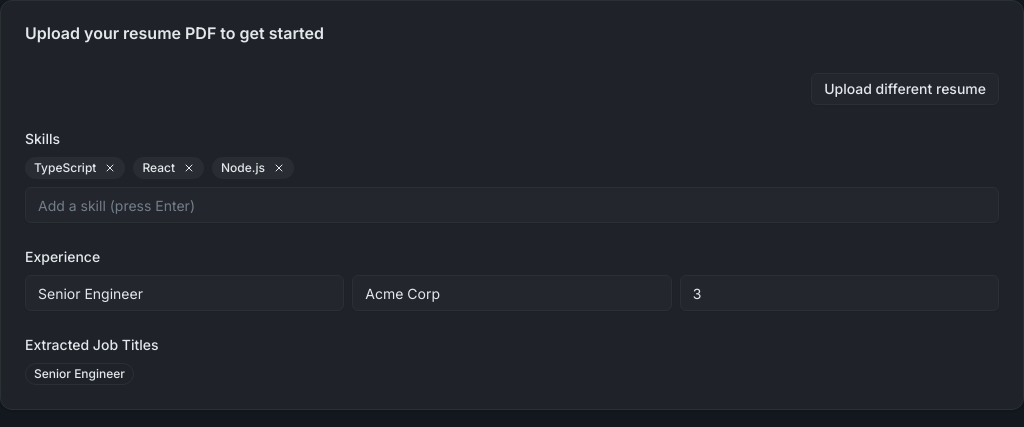
Test case: ResumeStep › parsed data display › [P1] should add skill when typing and pressing Enter
Type "GraphQL" into the field with test id "add-skill-input" at x=512, y=205, box left=25, top=187, right=999, bottom=223
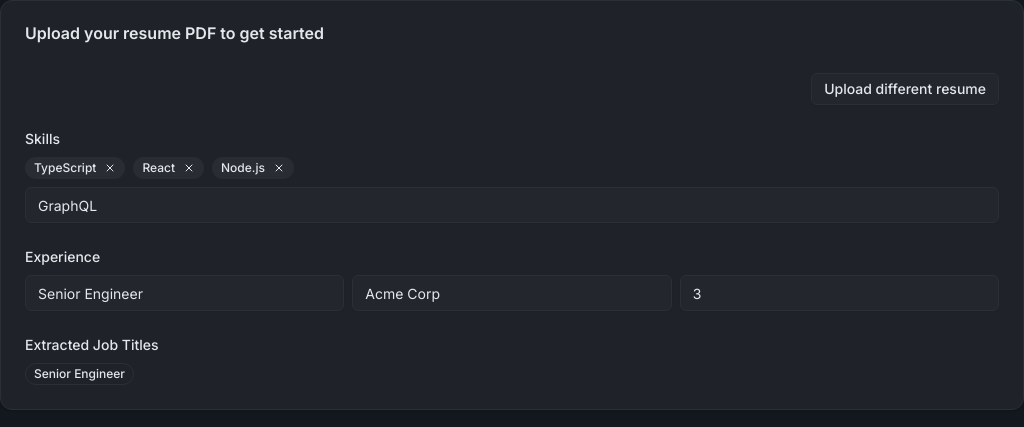
Press Enter in the field with test id "add-skill-input", box left=25, top=187, right=999, bottom=223
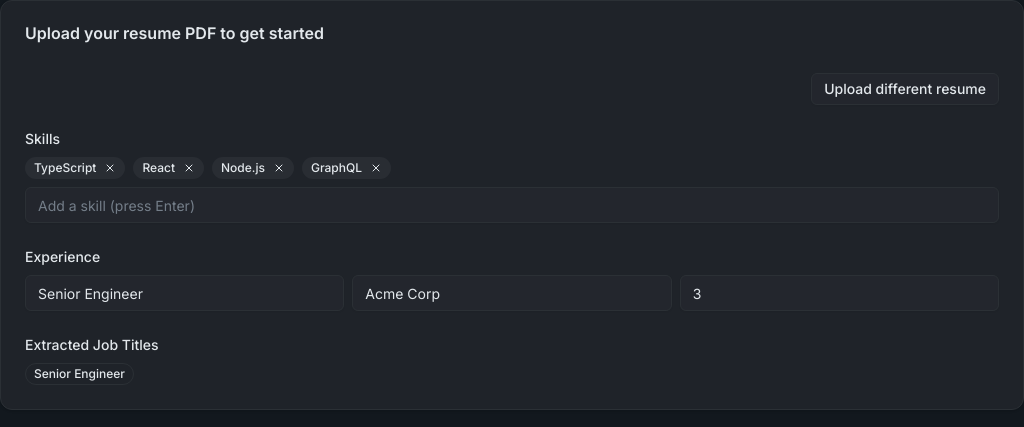
Expected: the text "GraphQL" is shown, left=302, top=157, right=391, bottom=179
